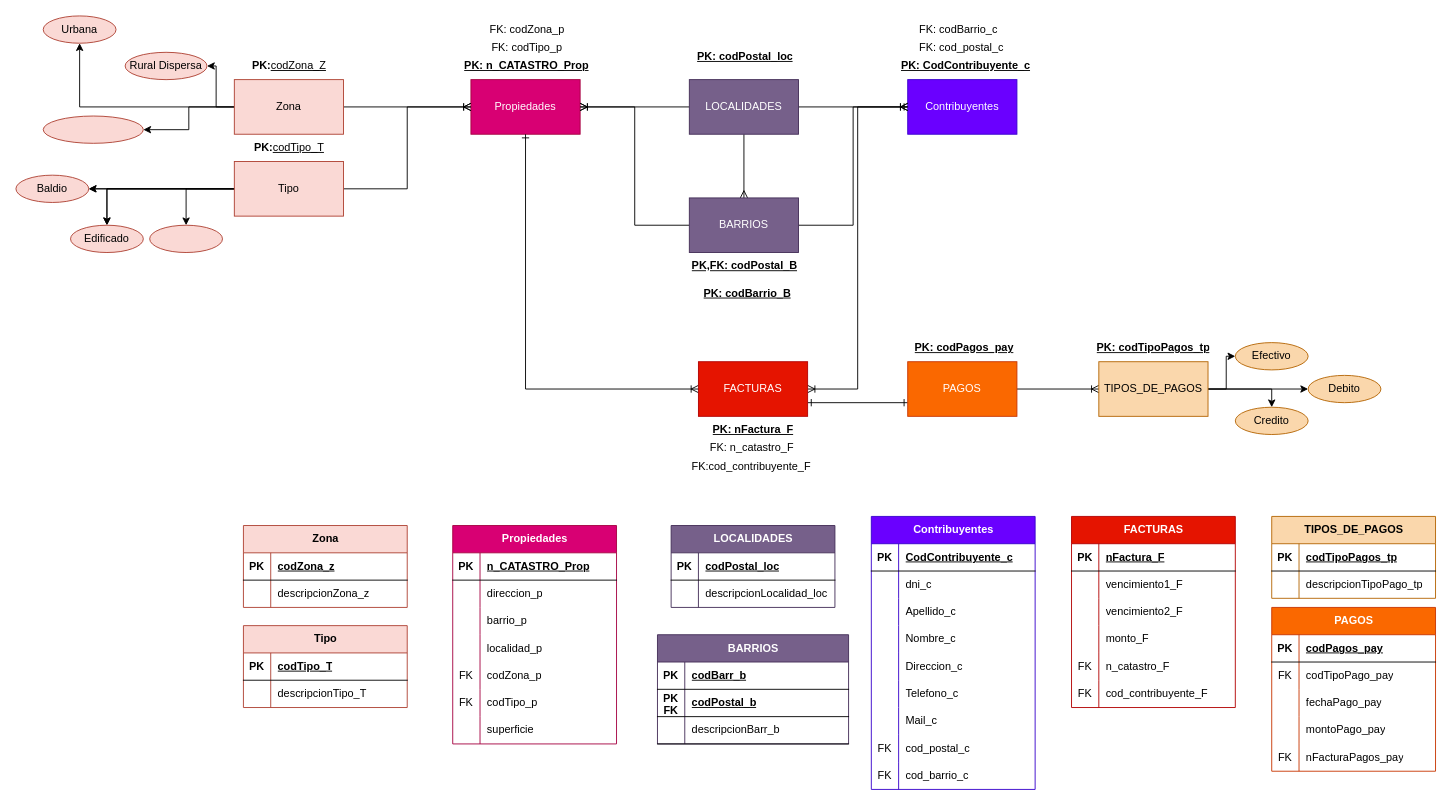
This 1451x805 diagram has some shape labels left out. Each missing label, with the centre of its shape:
"En Obra" belongs at point (185, 238).
"Rural Nucleada" belongs at point (92, 129).
